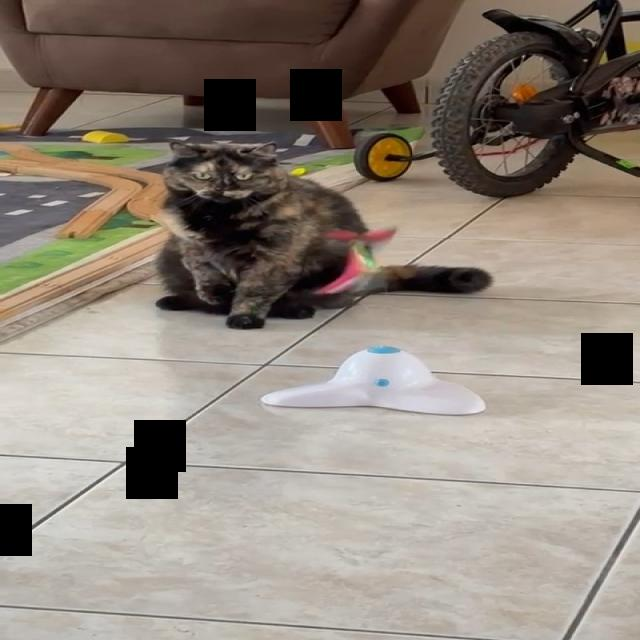authorized: (152, 138, 492, 329)
